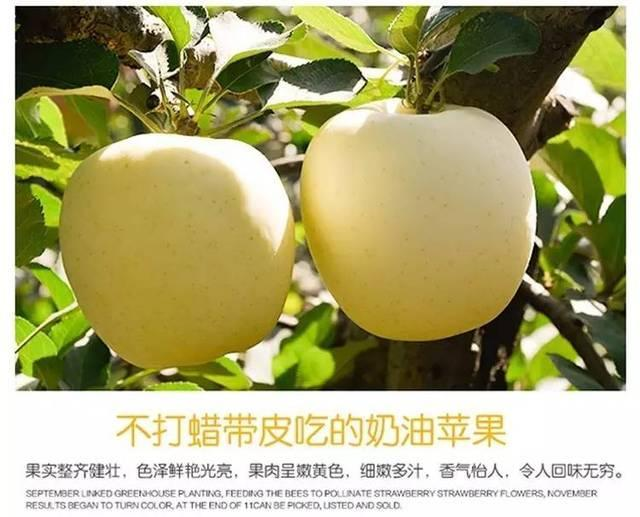apple: (58, 129, 298, 371), (301, 99, 538, 339)
